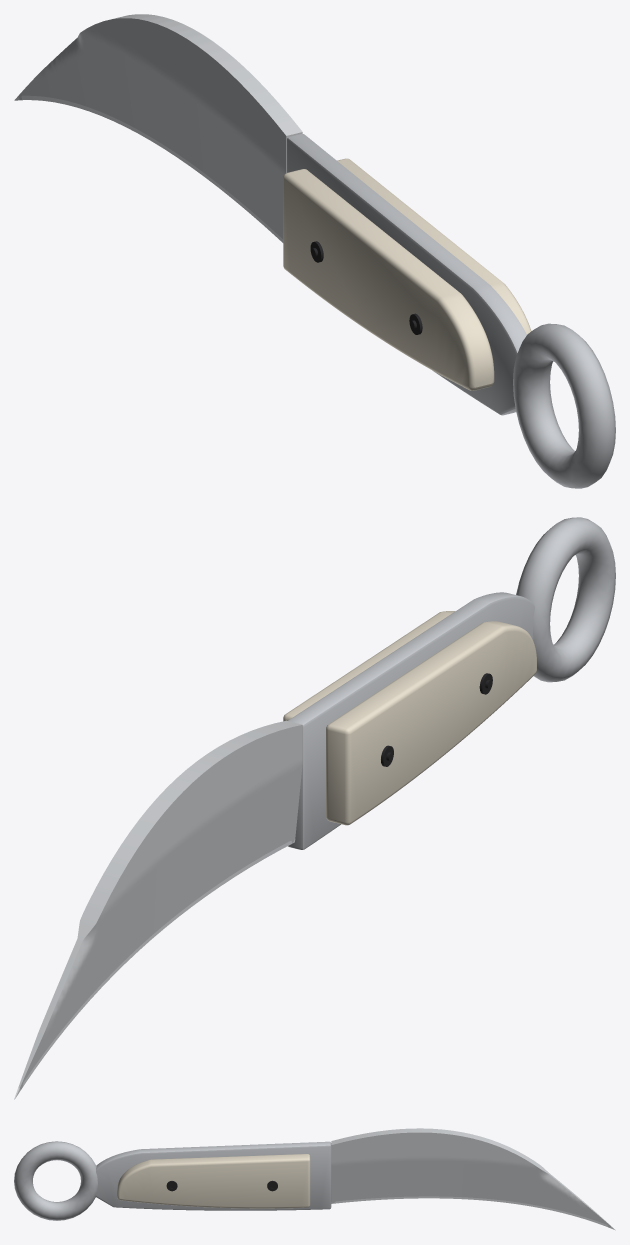
Rendered from knife_talon.glb.
3 views of the same model, one above another, from view 1: azimuth 30°, elevation 25°; view 2: azimuth 150°, elevation 25°; view 3: azimuth 270°, elevation 25° (orthographic). The views are drawn at different scales.
Parts seen in each view (by area): view 1: talon; view 2: talon; view 3: talon.
Boxes of the visible parts, box(x1,y1,x2,y2) form: talon: box(14, 14, 615, 488); talon: box(14, 517, 615, 1099); talon: box(14, 1128, 615, 1230).
Bounding box in the file's own units: 0.0211 × 0.0527 × 0.2875.
